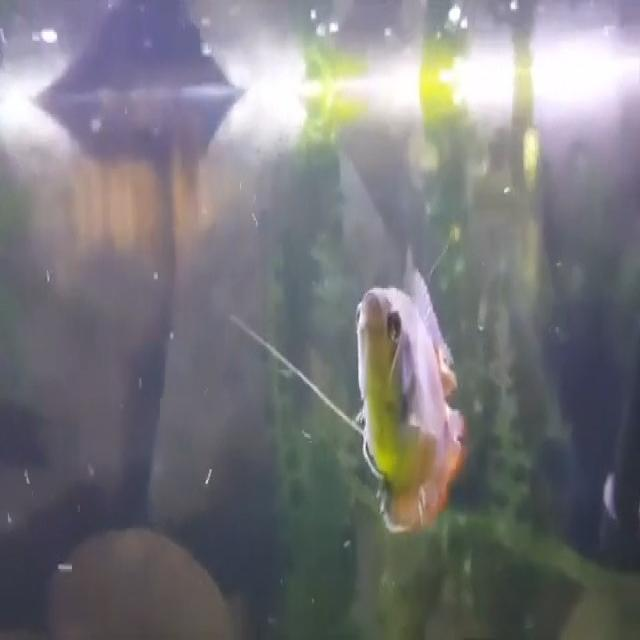fish: (347, 262, 471, 557)
